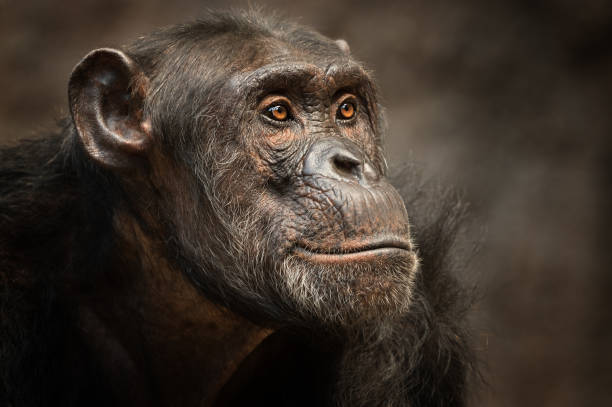chimpanzee: (46, 12, 513, 352)
